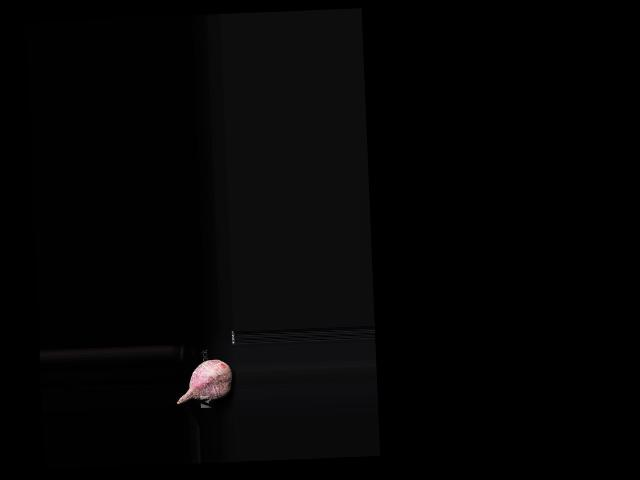beet: (175, 358, 232, 403)
